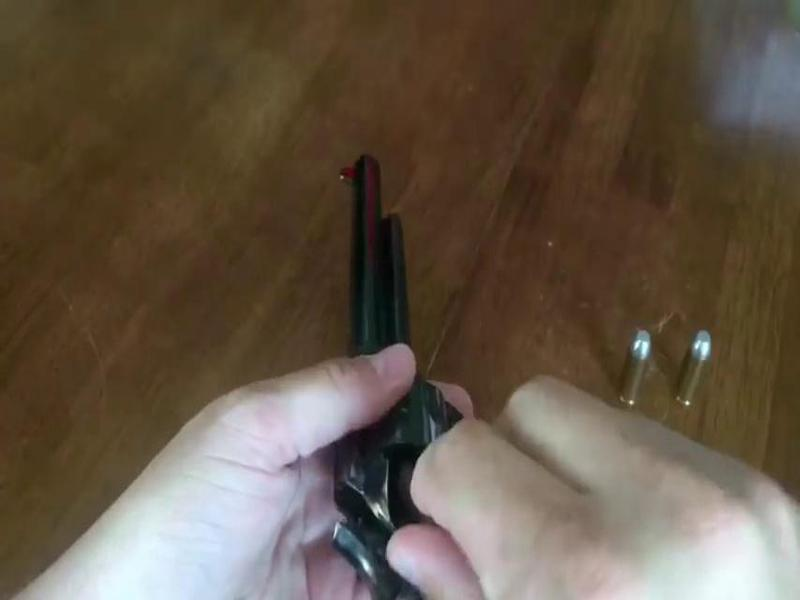Revolver: (298, 159, 512, 600)
